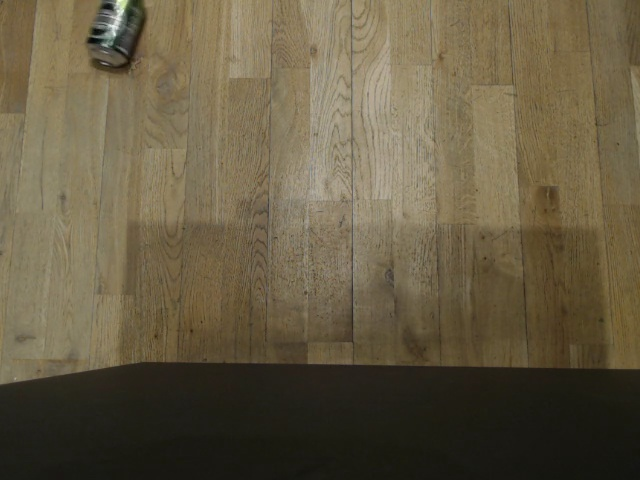beer: (85, 0, 147, 71)
